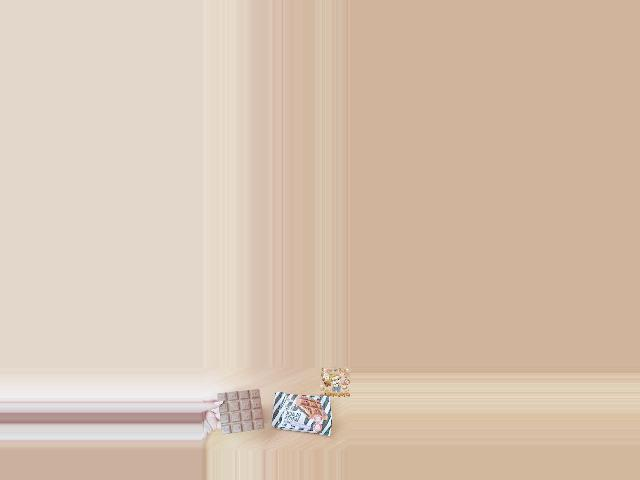chocolate: (269, 393, 334, 435)
